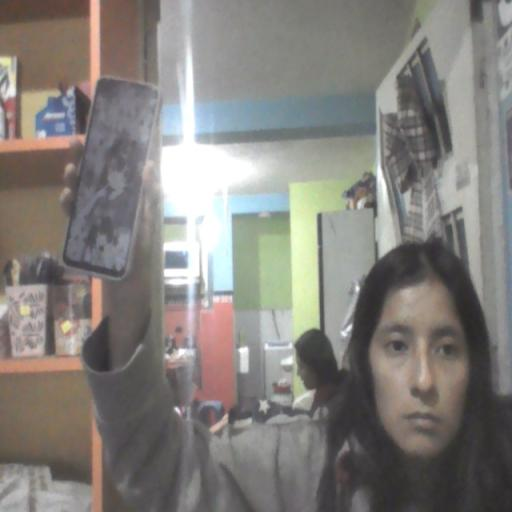phone: (58, 74, 166, 284)
